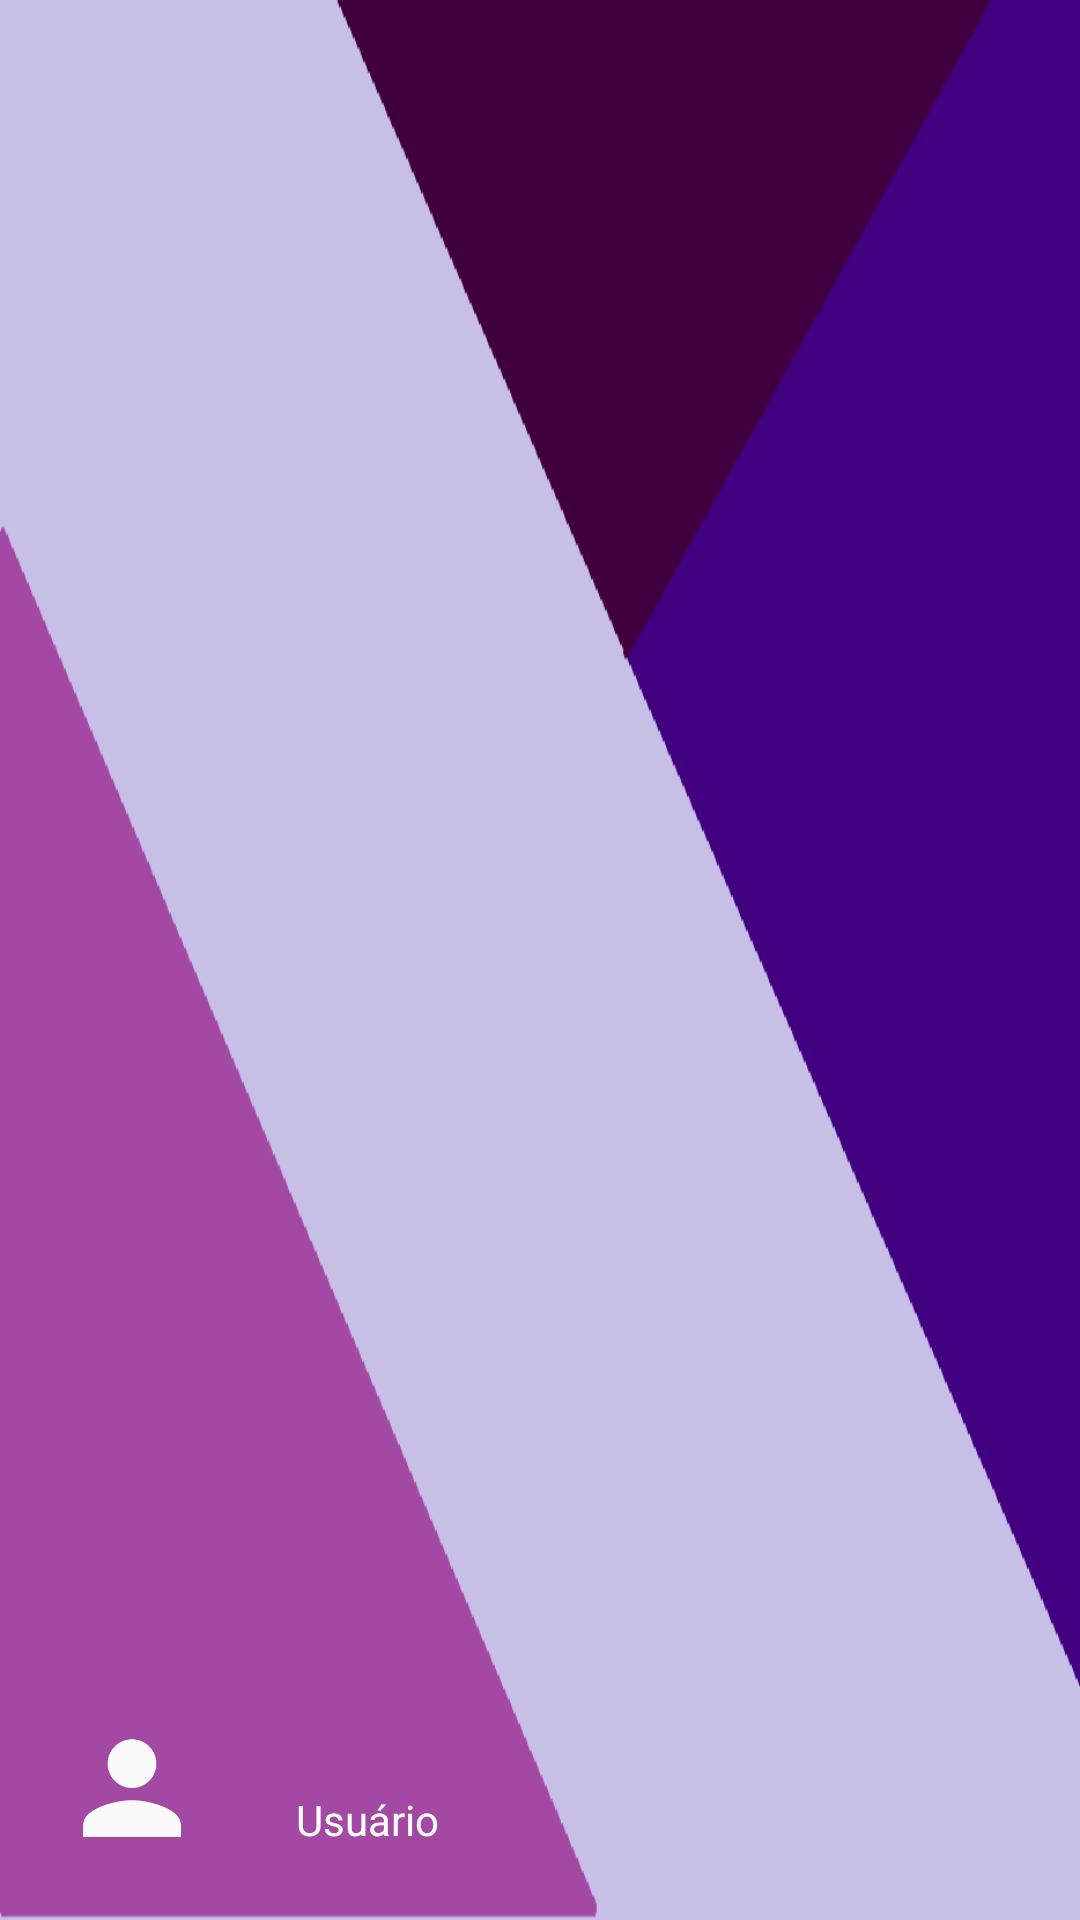

Where to tap for icons on this 1080x1920 app screen, as point (x, y):
perfill: point (132, 1788)
